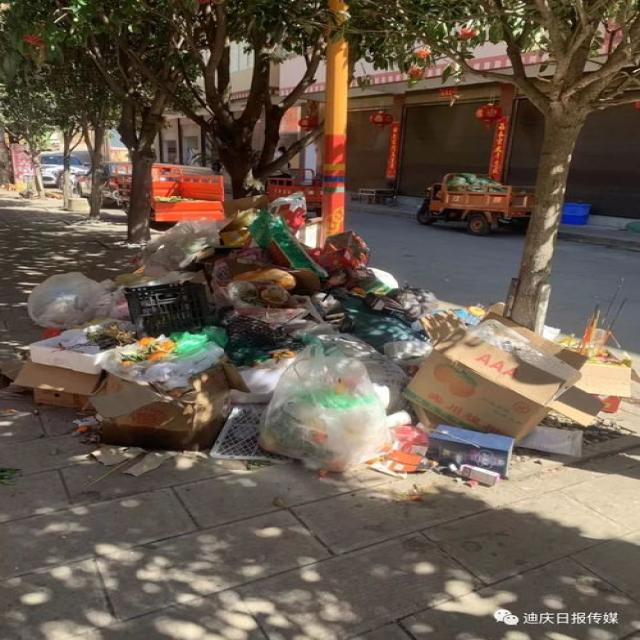garbage: (0, 190, 639, 499)
